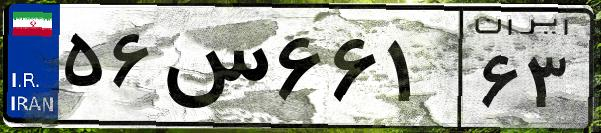1: (385, 28, 445, 110)
3: (525, 38, 570, 115)
5: (57, 26, 110, 100)
6: (270, 28, 330, 110), (330, 28, 385, 110), (475, 38, 525, 113), (110, 28, 158, 98)
س: (158, 20, 270, 120)
